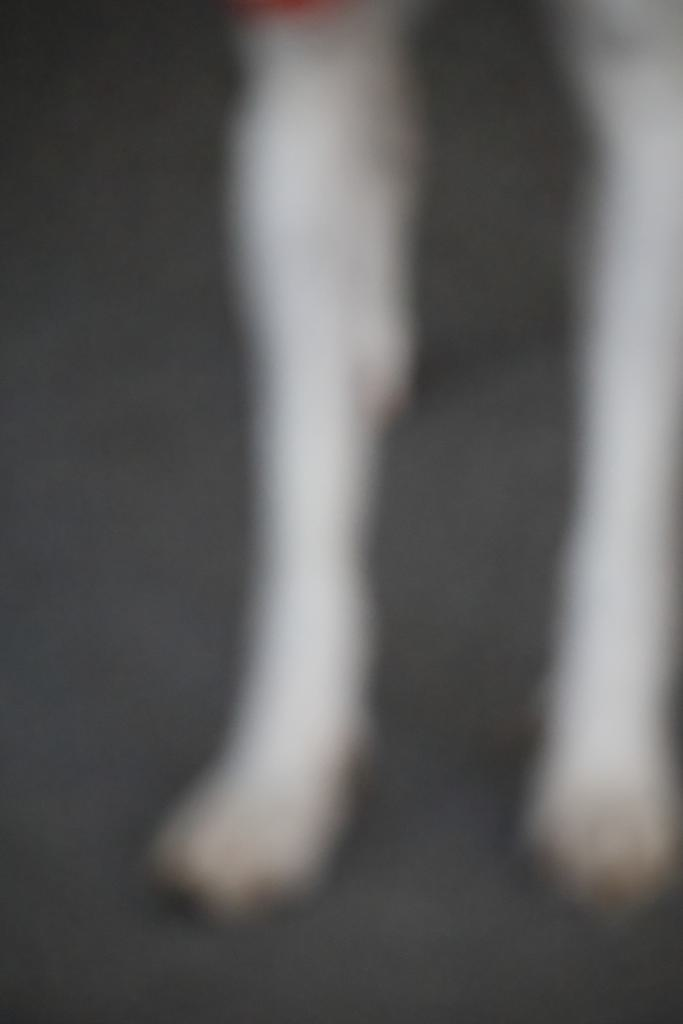Dog: (117, 0, 683, 936)
